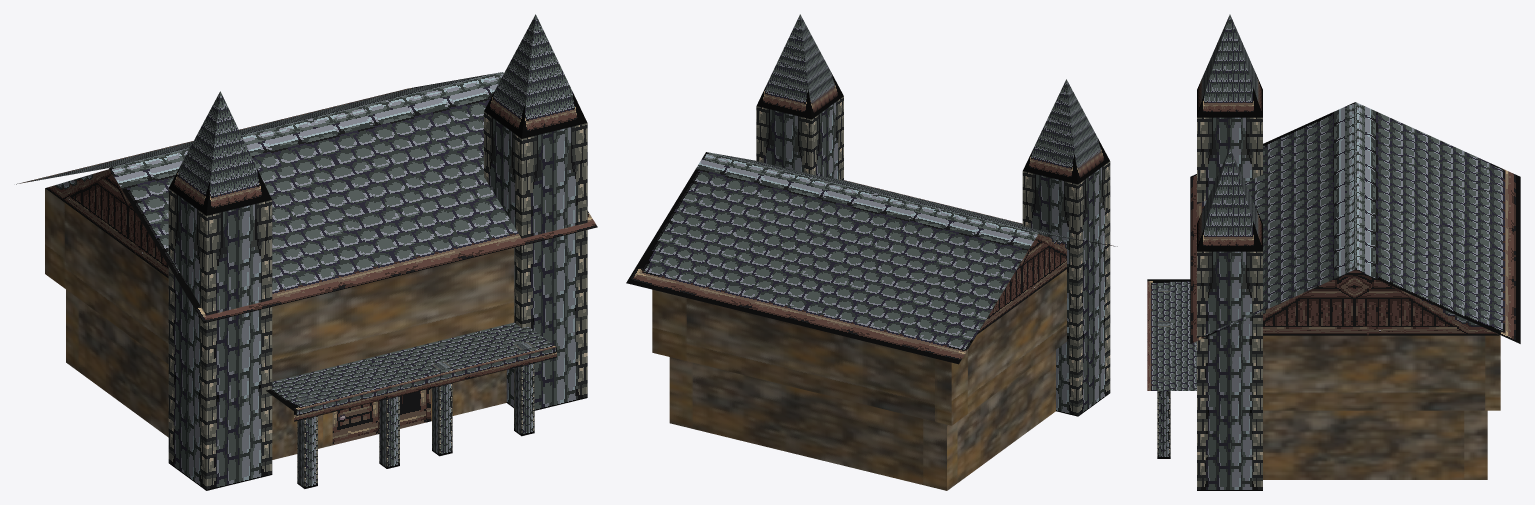
The model's file is bank.glb.
3 renders of one model, left to right at view 1: azimuth 30°, elevation 25°; view 2: azimuth 150°, elevation 25°; view 3: azimuth 270°, elevation 25°, orthographic. The views are drawn at different scales.
Visible parts, largest first — view 1: Bank_RoofFront, Bank_FrontUpper, SteepleL_Front, SteepleR_Front, Bank_LeftUpper, SteepleL_Left, Portico_Top, Bank_LeftGround, Bank_GableLeft, SteepleR_Left, SteepleR_SpireFront, SteepleL_SpireFront (+11 smaller); view 2: Bank_RoofBack, Bank_BackUpper, Bank_BackGround, Bank_LeftUpper, SteepleL_Left, Bank_LeftGround, SteepleL_Back, SteepleR_Back, Bank_GableLeft, SteepleL_SpireBack, SteepleR_SpireBack, SteepleR_Left (+3 smaller); view 3: Bank_RoofBack, Bank_RightUpper, Bank_RoofFront, Bank_RightGround, SteepleR_Right, Bank_GableRight, Portico_Top, SteepleL_Right, SteepleR_SpireRight, SteepleL_SpireRight, Pillar4_Right, SteepleR_SpireFront (+3 smaller).
Part boxes in pixels (x1=…): Bank_RoofFront: x1=109, y1=72, x2=597, y2=323; Bank_FrontUpper: x1=272, y1=248, x2=514, y2=381; SteepleL_Front: x1=206, y1=200, x2=272, y2=490; SteepleR_Front: x1=522, y1=123, x2=587, y2=410; Bank_LeftUpper: x1=45, y1=188, x2=168, y2=363; SteepleL_Left: x1=168, y1=188, x2=206, y2=490; Portico_Top: x1=266, y1=322, x2=556, y2=411; Bank_LeftGround: x1=66, y1=289, x2=168, y2=437; Bank_GableLeft: x1=45, y1=169, x2=168, y2=278; SteepleR_Left: x1=484, y1=111, x2=521, y2=407; SteepleR_SpireFront: x1=522, y1=14, x2=587, y2=138; SteepleL_SpireFront: x1=206, y1=91, x2=271, y2=215; Bank_RoofBack: x1=626, y1=152, x2=1038, y2=364; Bank_BackUpper: x1=652, y1=289, x2=951, y2=425; Bank_BackGround: x1=669, y1=357, x2=946, y2=490; Bank_LeftUpper: x1=951, y1=269, x2=1066, y2=425; SteepleL_Left: x1=1078, y1=161, x2=1110, y2=416; Bank_LeftGround: x1=947, y1=350, x2=1055, y2=490; SteepleL_Back: x1=1022, y1=171, x2=1078, y2=416; SteepleR_Back: x1=756, y1=106, x2=811, y2=174; Bank_GableLeft: x1=977, y1=234, x2=1066, y2=334; SteepleL_SpireBack: x1=1023, y1=79, x2=1077, y2=184; SteepleR_SpireBack: x1=756, y1=14, x2=811, y2=119; SteepleR_Left: x1=812, y1=96, x2=843, y2=180; Bank_RoofBack: x1=1355, y1=102, x2=1520, y2=343; Bank_RightUpper: x1=1263, y1=335, x2=1500, y2=410; Bank_RoofFront: x1=1190, y1=102, x2=1355, y2=343; Bank_RightGround: x1=1263, y1=410, x2=1487, y2=479; SteepleR_Right: x1=1197, y1=251, x2=1262, y2=490; Bank_GableRight: x1=1263, y1=269, x2=1499, y2=335; Portico_Top: x1=1147, y1=279, x2=1196, y2=390; SteepleL_Right: x1=1197, y1=117, x2=1262, y2=204; SteepleR_SpireRight: x1=1197, y1=148, x2=1262, y2=251; SteepleL_SpireRight: x1=1197, y1=14, x2=1262, y2=117; Pillar4_Right: x1=1157, y1=391, x2=1170, y2=458; SteepleR_SpireFront: x1=1197, y1=149, x2=1229, y2=250.
Size of what is drawn, in the model's own units: 12 by 11 by 11.3.
2 materials, 2 textured.
